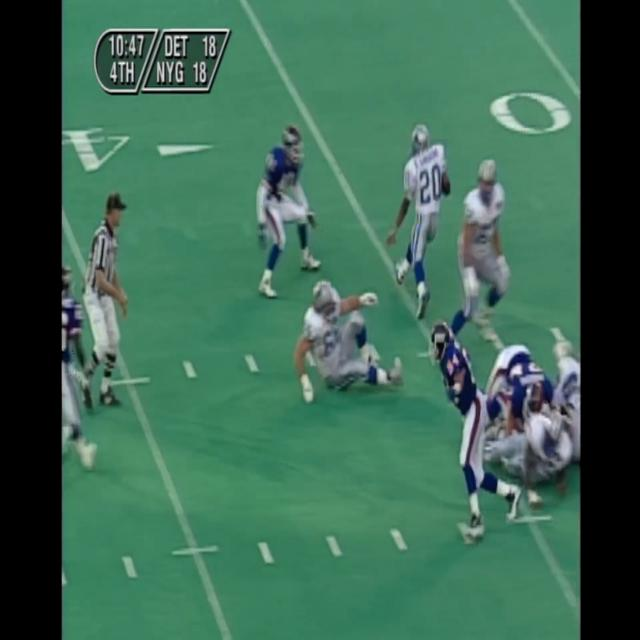players: (425, 322, 520, 544), (295, 278, 404, 407), (444, 157, 506, 349), (255, 127, 322, 300), (390, 123, 449, 318), (481, 340, 556, 442), (527, 401, 574, 491)
